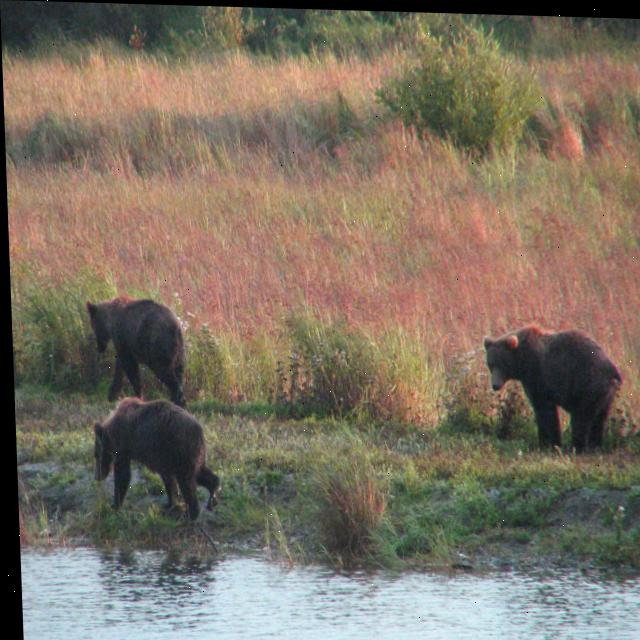bear face: (480, 322, 621, 449), (86, 395, 218, 514), (84, 299, 183, 401)
